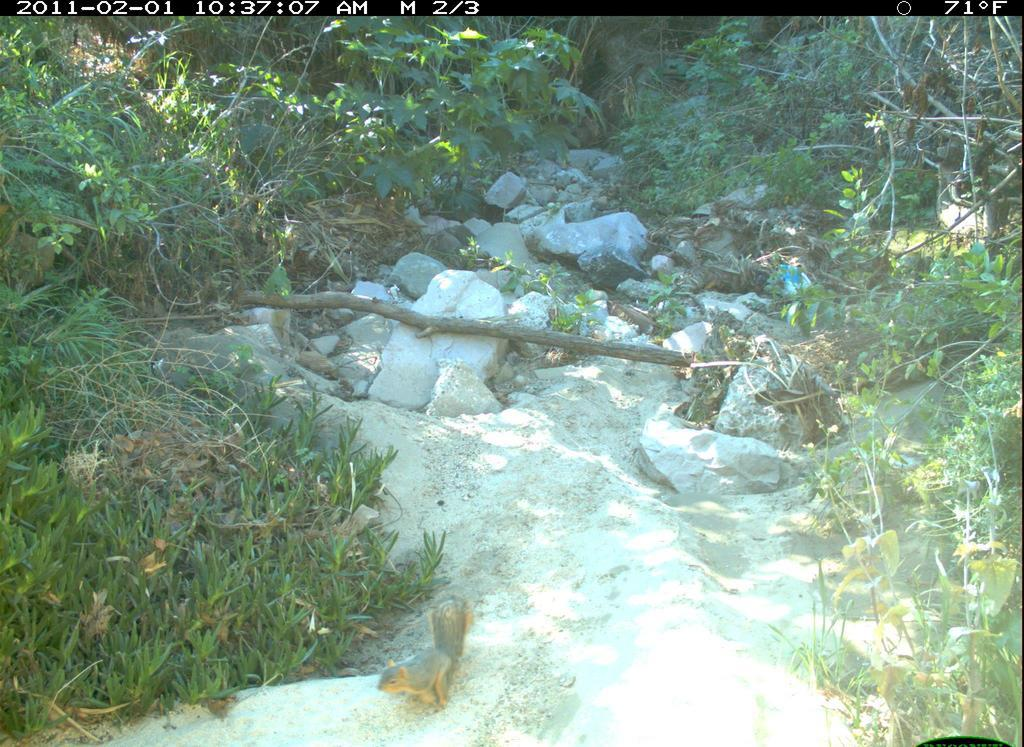squirrel: (370, 588, 481, 719)
